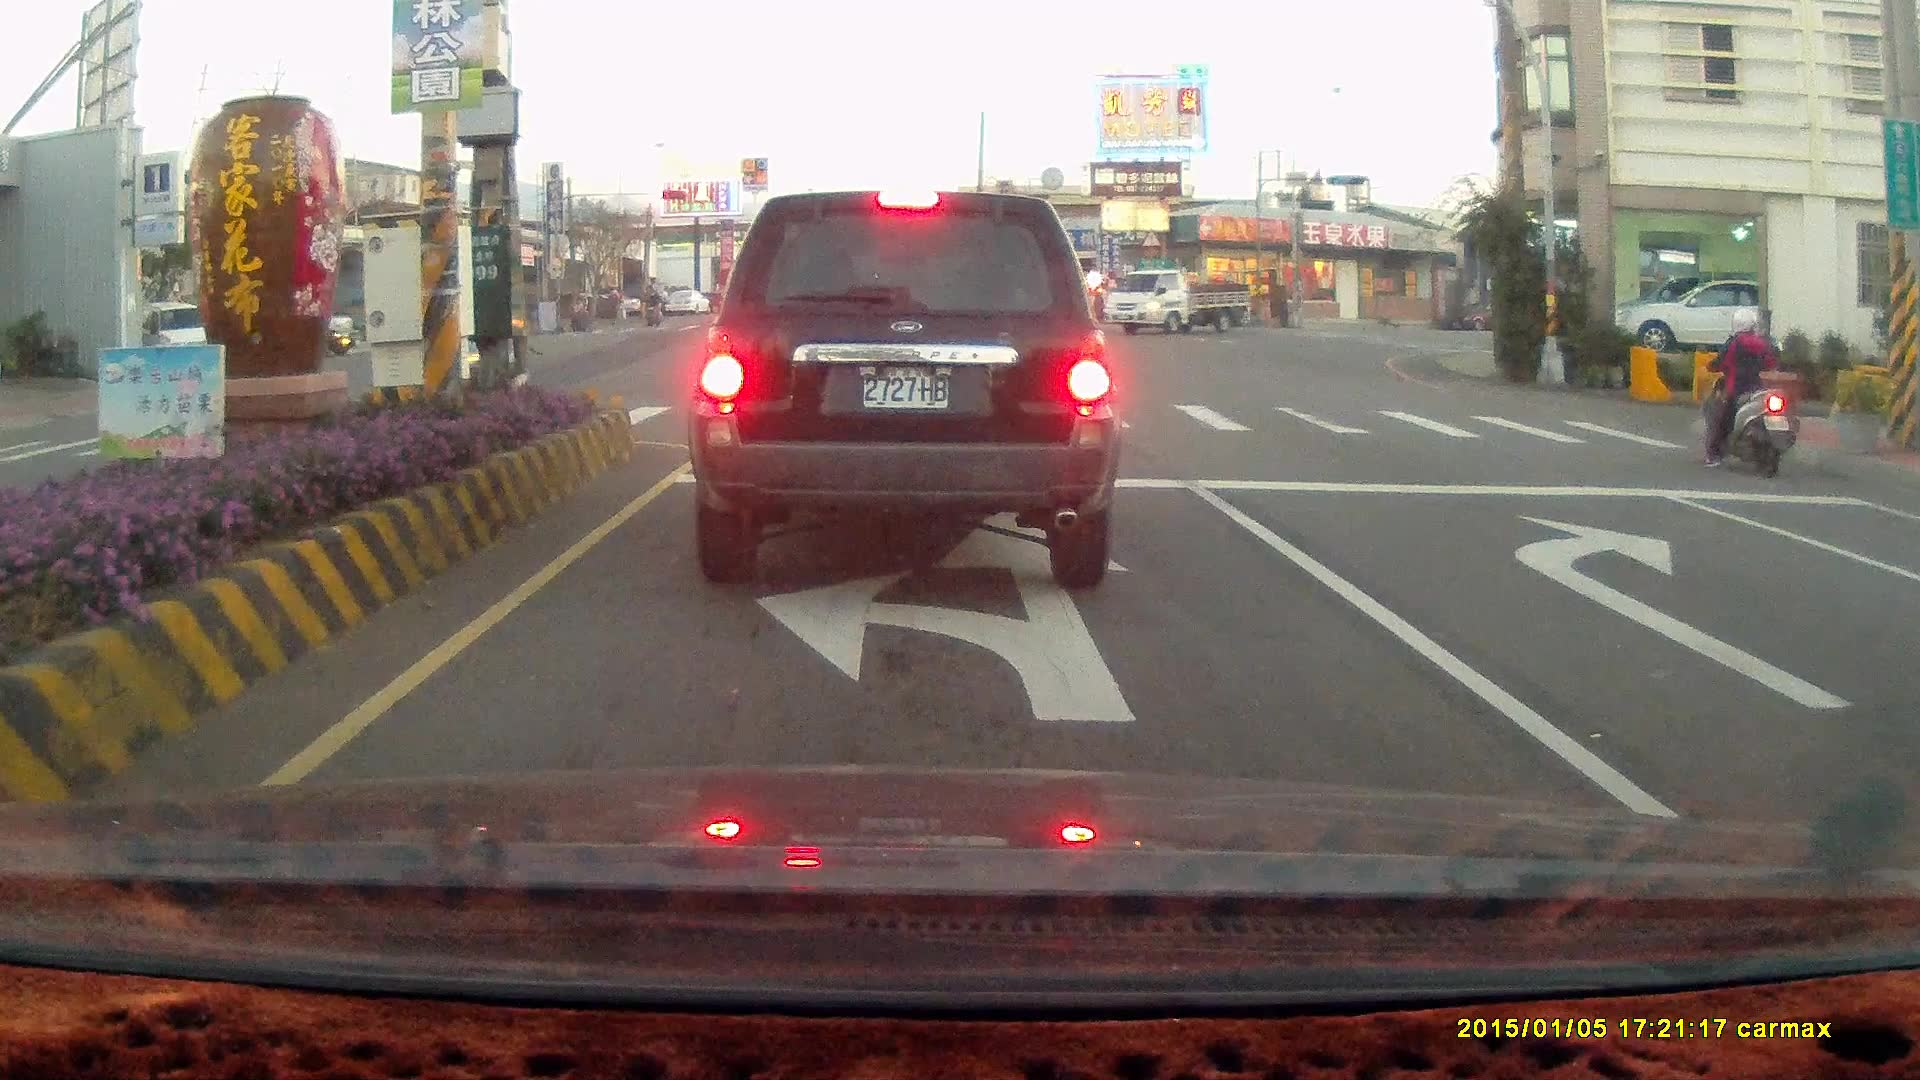rider: (1705, 307, 1802, 476), (567, 292, 591, 332), (646, 289, 667, 326)
vehicle: (684, 188, 1120, 589), (1608, 275, 1810, 356), (910, 262, 1067, 351), (1115, 265, 1261, 340), (1621, 278, 1761, 353), (119, 300, 232, 382), (1896, 493, 1920, 836), (1883, 528, 1920, 690)
